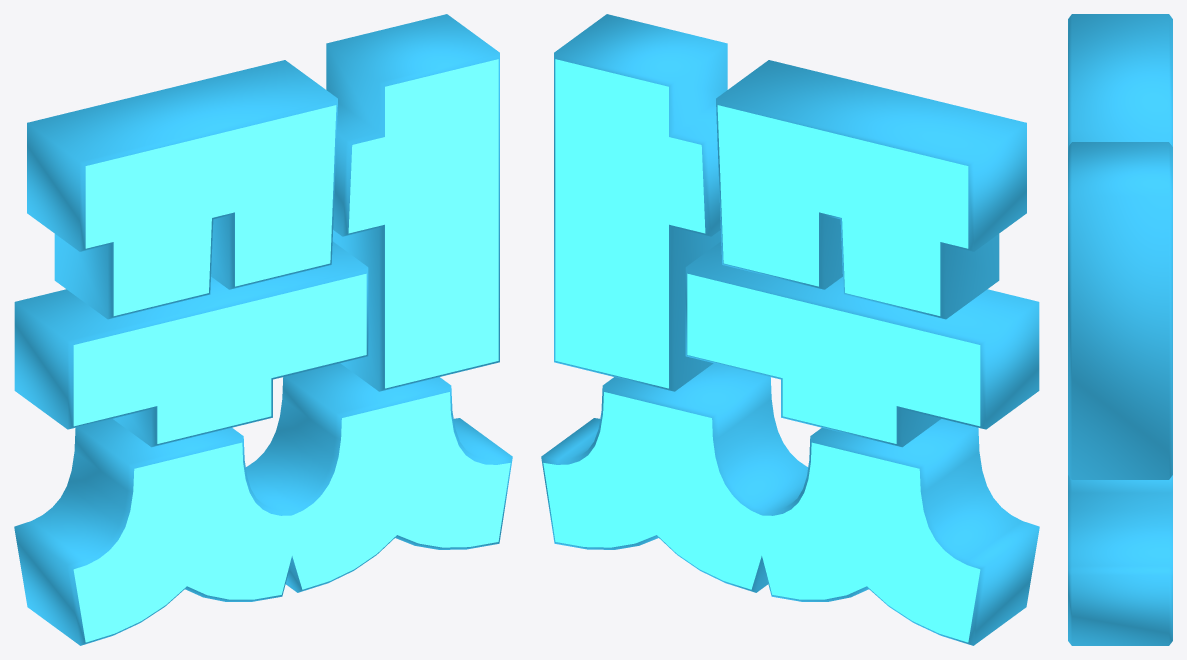
Rendered from u_afe8_b.glb.
3 views of the same model, side by side, from view 1: azimuth 30°, elevation 25°; view 2: azimuth 150°, elevation 25°; view 3: azimuth 270°, elevation 25° (orthographic). The views are drawn at different scales.
Parts seen in each view (by area): view 1: glyph; view 2: glyph; view 3: glyph.
Boxes of the visible parts, box(x1,y1,x2,y2) form: glyph: box(14, 14, 512, 645); glyph: box(541, 14, 1039, 645); glyph: box(1068, 14, 1172, 645).
Bounding box in the file's own units: 0.0728 × 0.0766 × 0.0162.
